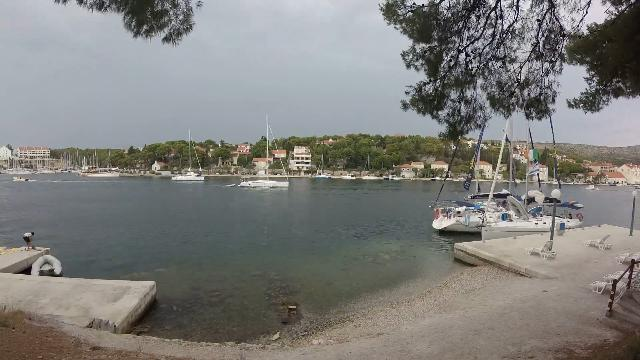Sailboat: (234, 173, 292, 191), (168, 168, 208, 184)
speedboat: (10, 172, 34, 186)
